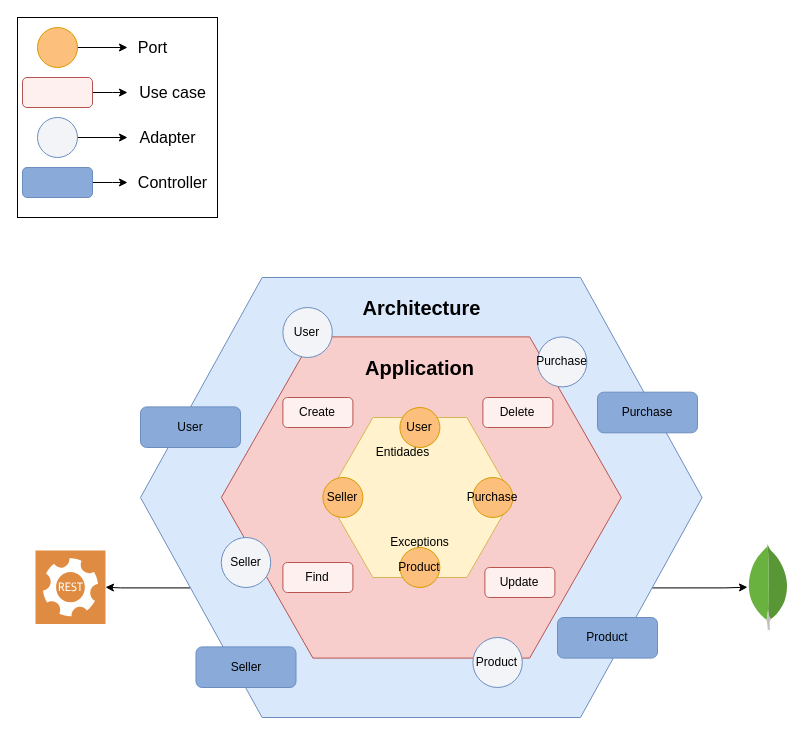
Image size: 807x735. Some labels were removed from this diagram. Here are the shapes that lost their labels. From the top down, the box of each, then its label:
(326, 416, 513, 578): Domain
(35, 550, 105, 623): API REST
